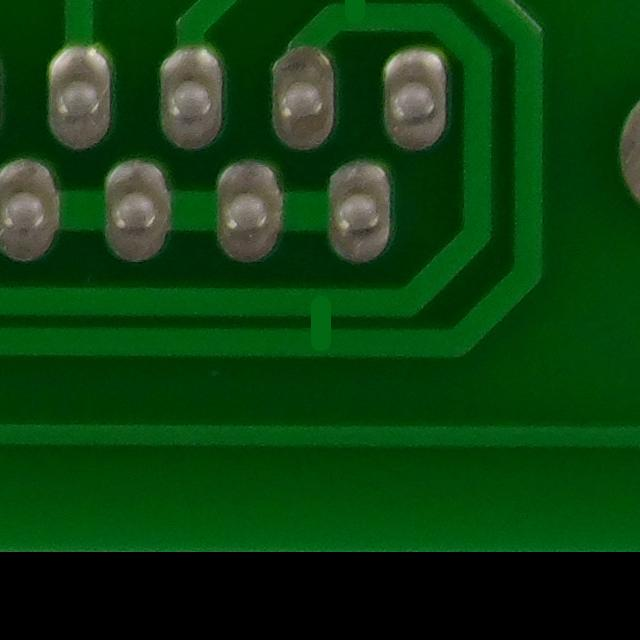short: (287, 276, 353, 364)
